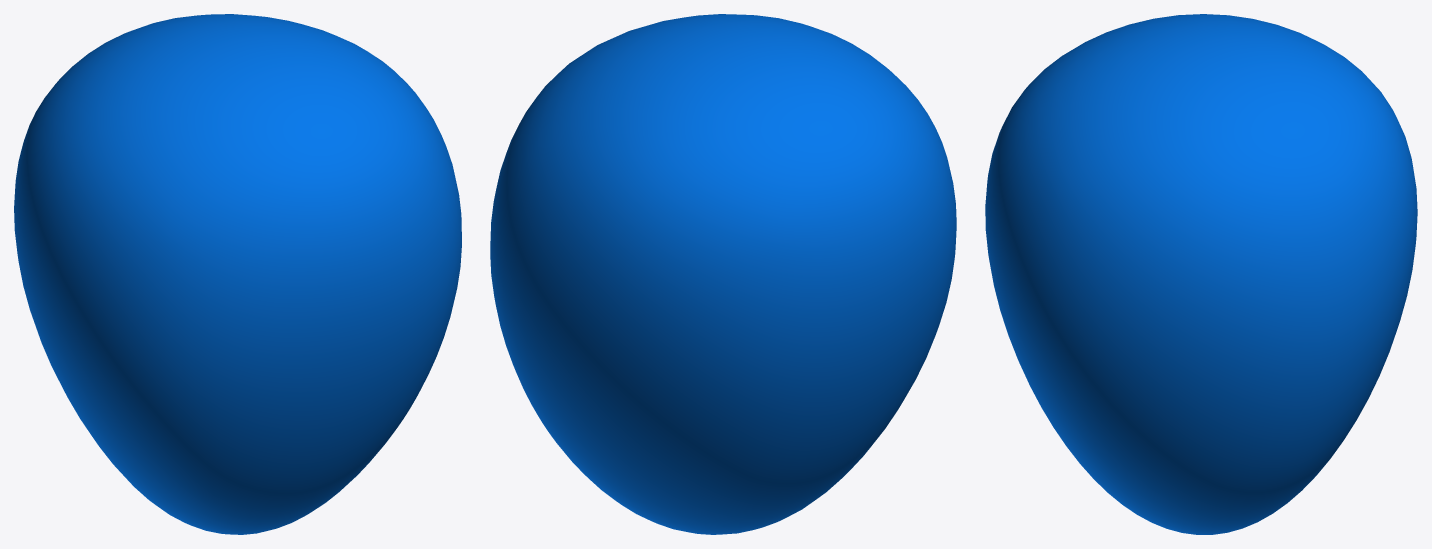
Rendered from baloon (1).fbx.
The picture shows the model from 3 angles, left to right: view 1: azimuth 30°, elevation 25°; view 2: azimuth 150°, elevation 25°; view 3: azimuth 270°, elevation 25°; orthographic projection. The views are drawn at different scales.
Parts seen in each view (by area): view 1: Cube; view 2: Cube; view 3: Cube.
Part boxes in pixels (box(x1,y1,x2,y2)): Cube: box(14, 14, 461, 534); Cube: box(490, 14, 956, 534); Cube: box(985, 14, 1417, 534).
Bounding box in the file's own units: 110 × 130 × 108.
